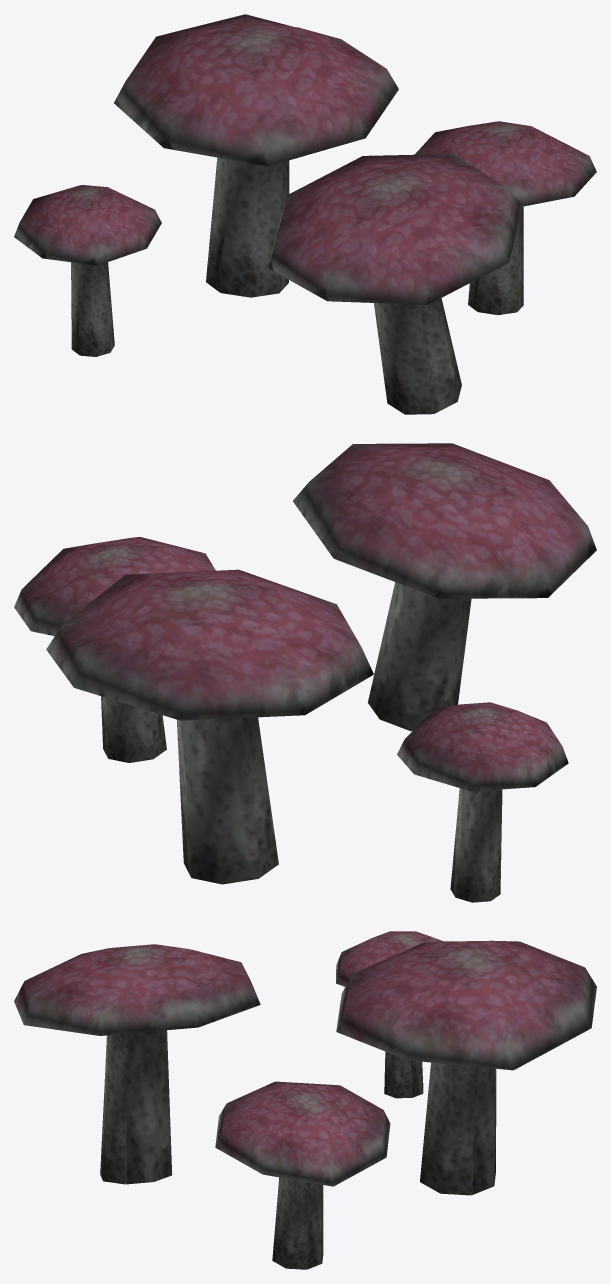
File: Mushrooms_A.fbx
The picture shows the model from 3 angles, top to bottom: view 1: azimuth 30°, elevation 25°; view 2: azimuth 150°, elevation 25°; view 3: azimuth 270°, elevation 25°; orthographic projection. The views are drawn at different scales.
Visible parts, largest first — view 1: Mushrooms_A; view 2: Mushrooms_A; view 3: Mushrooms_A.
Part boxes in pixels (<box>): Mushrooms_A: <box>14,14,596,414</box>; Mushrooms_A: <box>14,443,596,902</box>; Mushrooms_A: <box>14,931,596,1269</box>.
Bounding box in the file's own units: 22.01 × 10.15 × 23.02.
